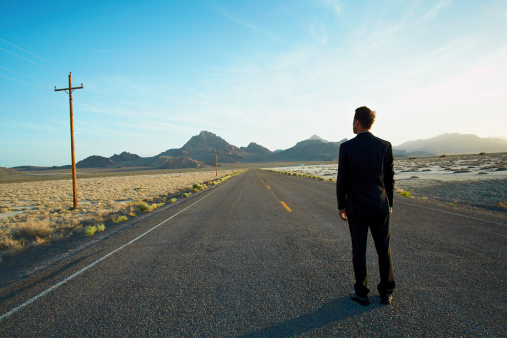em pe: (332, 88, 396, 303)
